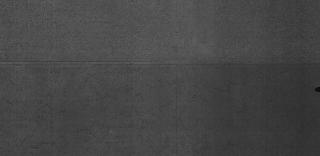punching hole: (314, 85, 320, 93)
silk spot: (4, 72, 306, 152)
welding line: (1, 59, 319, 67)
